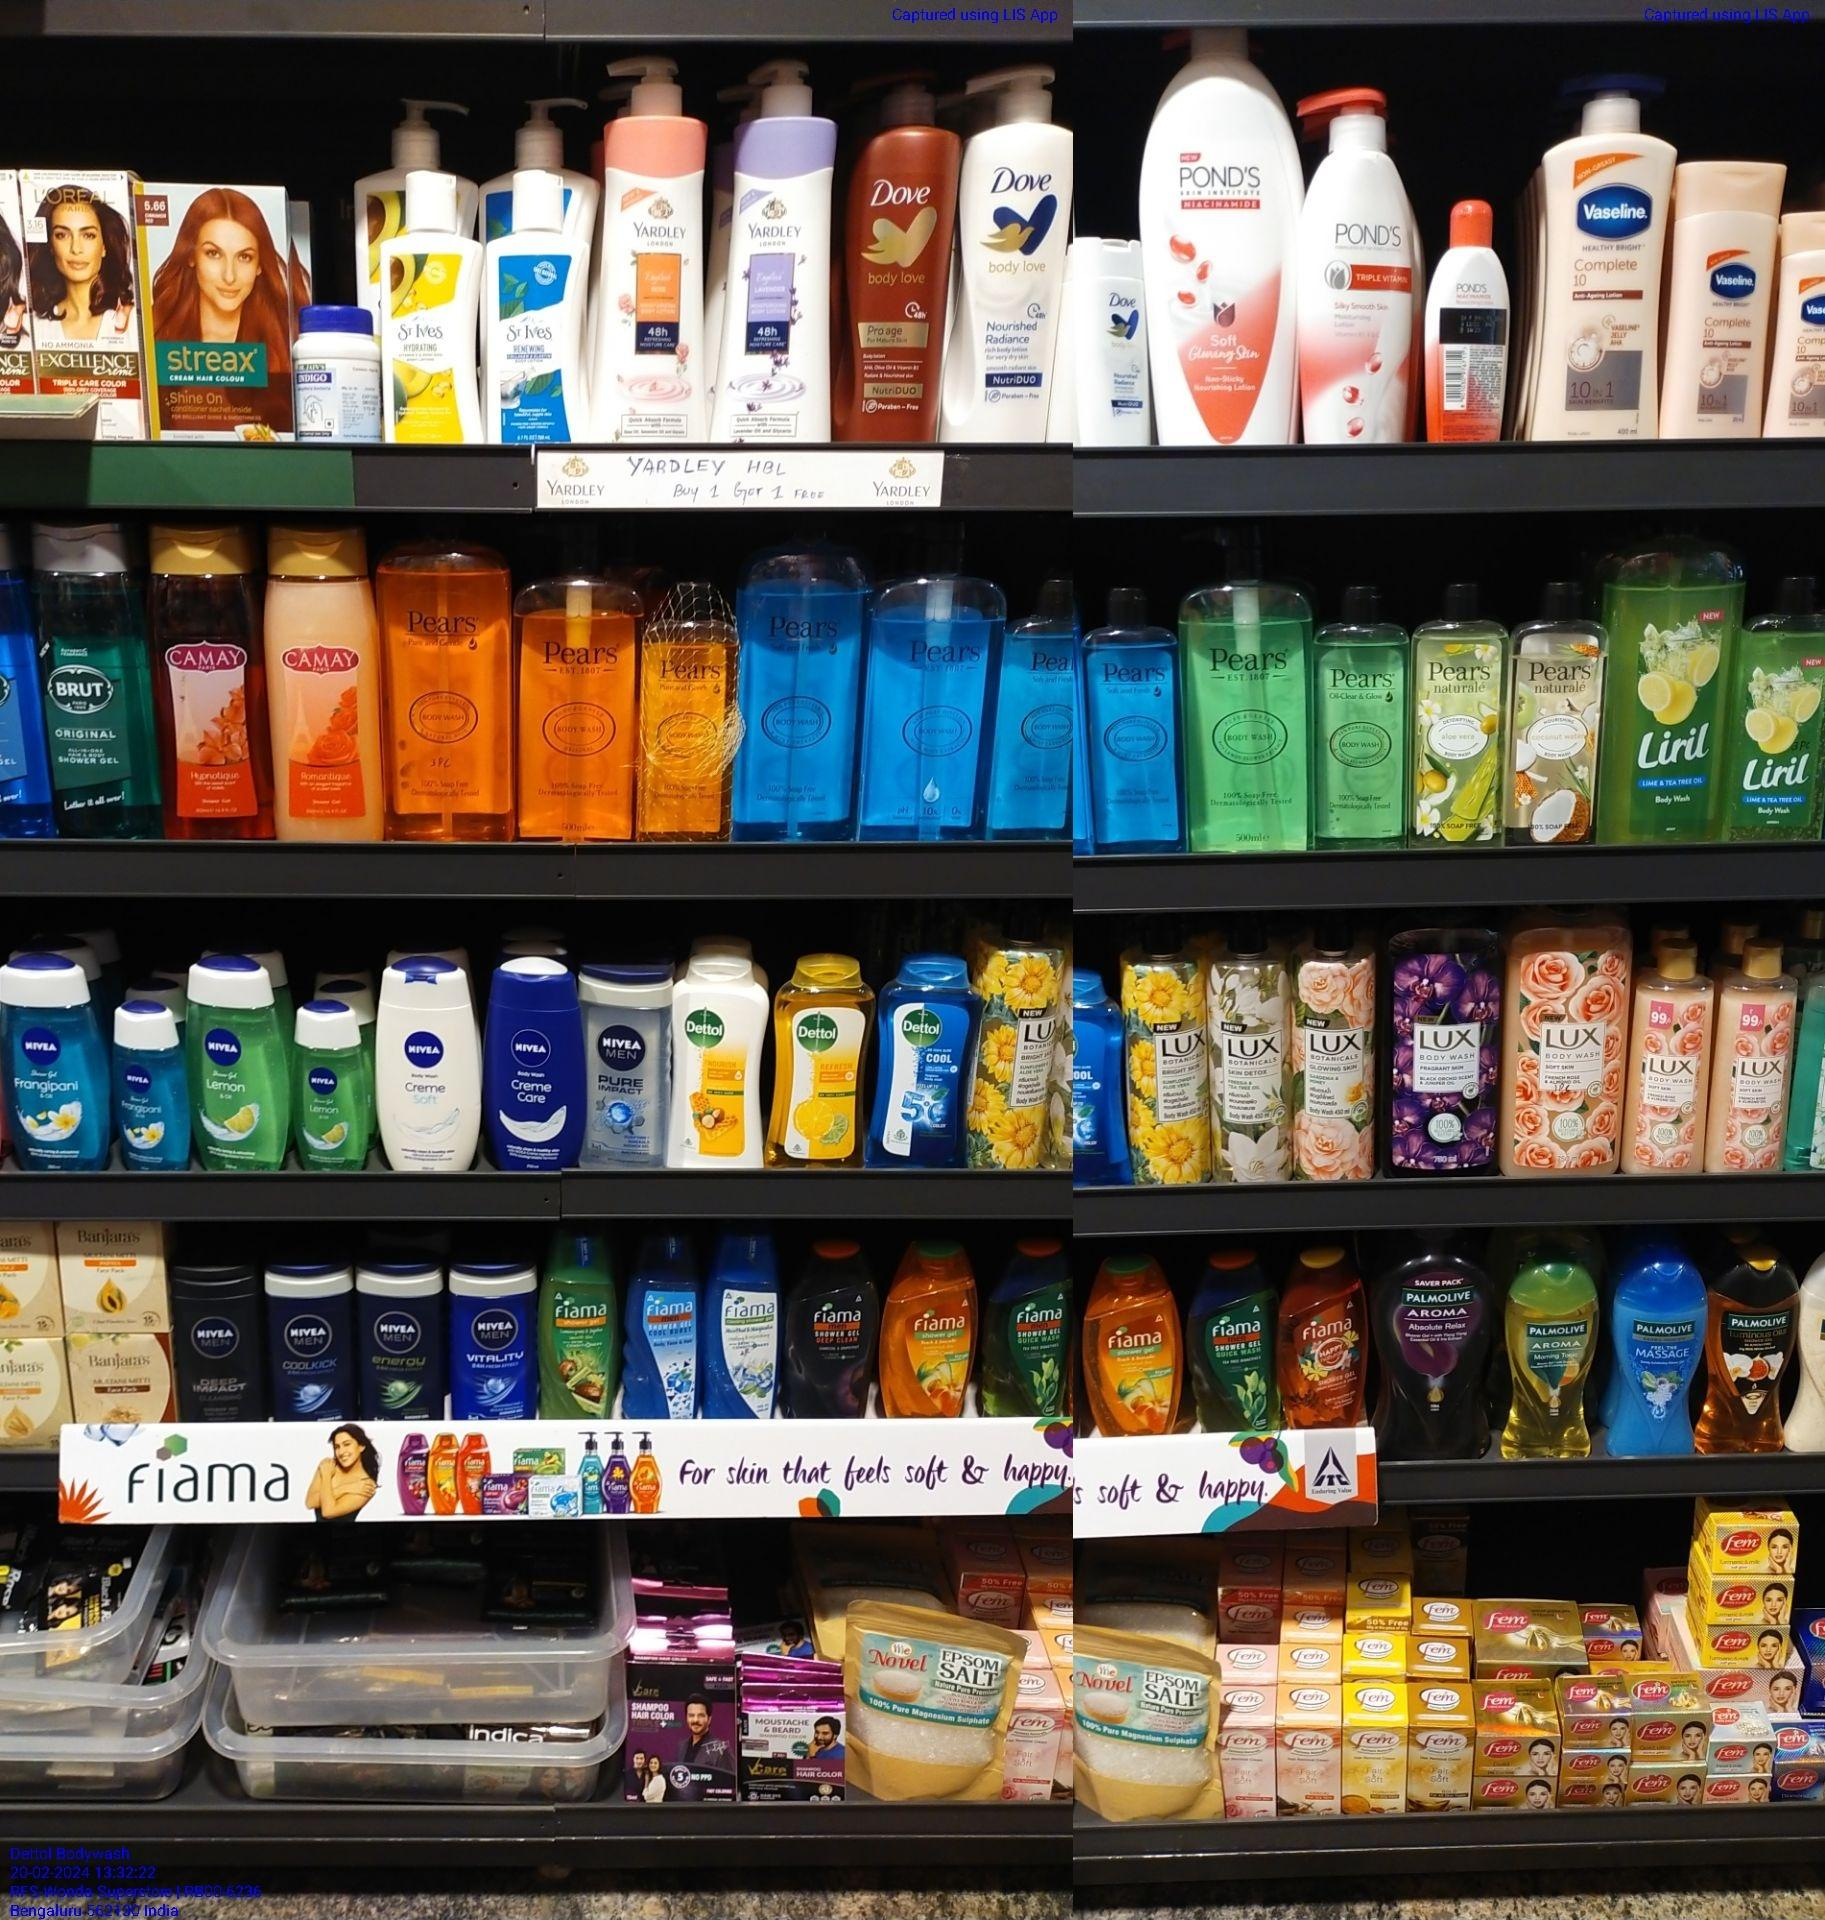Dettol_Bodywash_Cool: (876, 953, 980, 1169)
Dettol_Bodywash_Refresh: (771, 948, 865, 1164)
Dettol_Nourish_Body_Wash_250ML: (673, 945, 761, 1167)
Fiama_Shower_Gel_Lemongrass_and_Jojoba_250ML: (540, 1226, 622, 1421)
Fiama_Shower_Gel_Peach_and_Avocado_250ML: (879, 1241, 984, 1416), (1081, 1258, 1182, 1437)
Liril_Lime_and_Tea_Tree_Oil_Body_Wash_250ML: (1727, 579, 1825, 847)
Nivea_Creme_Care_Body_Wash_250ML: (488, 960, 588, 1169)
Nivea_Creme_Soft_Body_Wash_250ML: (370, 960, 482, 1174)
Nivea_Shower_Gel_Frangipani_and_Oil_250ML: (0, 957, 111, 1174)
Nivea_Shower_Gel_Lemon_and_Oil_250ML: (185, 962, 286, 1176)
Palmolive_Aroma_Moments_Feel_The_Massage_Shower_Gel_250ML: (1609, 1243, 1696, 1459)
Palmolive_Aroma_Morning_Tonic_Shower_Gel_250ML: (1503, 1263, 1594, 1459)
Palmolive_Luminous_Oils_With_White_Orchid_Shower_Gel_250ML: (1708, 1245, 1796, 1454)
Pears_Naturale_Aloe_Vera_Body_Wash_250ML: (1410, 588, 1505, 850)
Pears_Pure_Glycerin_and_Lemon_Flower_Extracts_Body_Wash_250ML: (1316, 573, 1402, 852)
Pears_Pure_Glycerin_and_Mint_Extracts_Body_Wash_250ML: (1085, 585, 1186, 850), (990, 581, 1069, 845)
